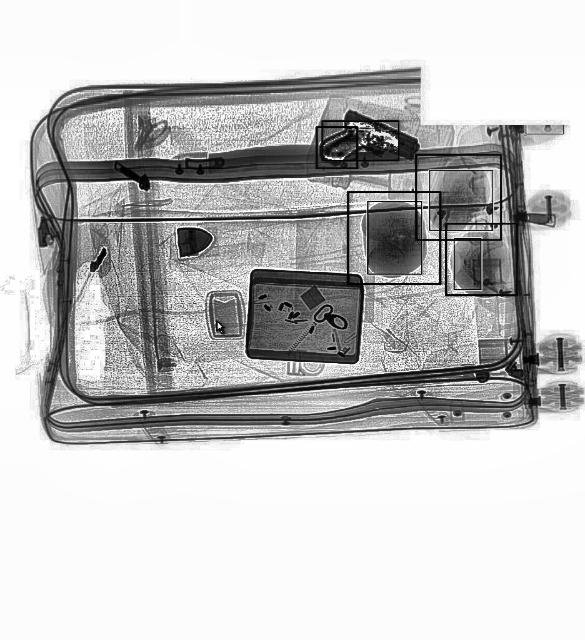Gun: (318, 108, 422, 184)
